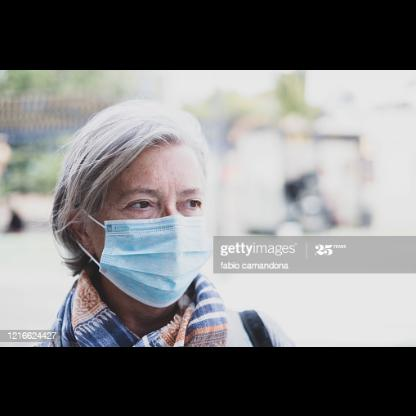Surgical Mask: (66, 131, 208, 306)
